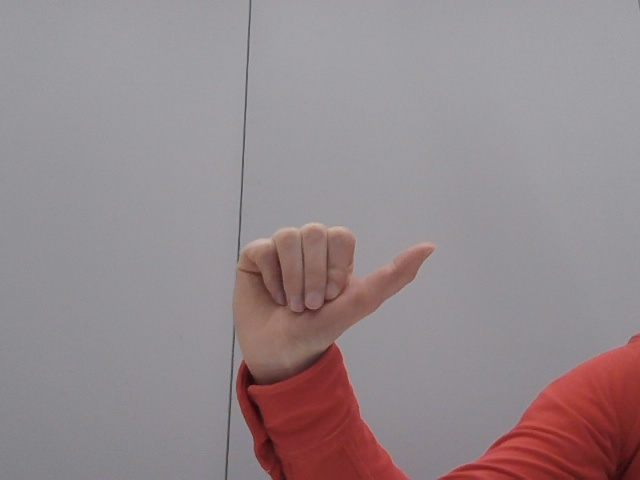left: (219, 207, 449, 398)
